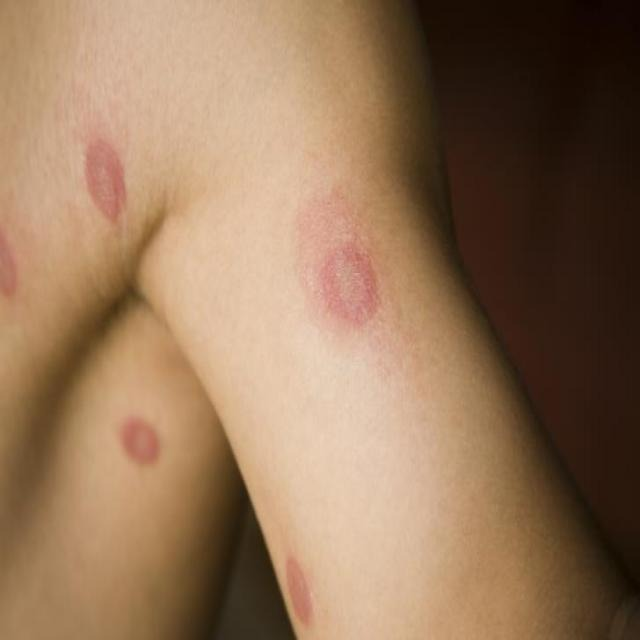Ringworm: (310, 217, 383, 337), (72, 122, 137, 233), (270, 548, 327, 633), (113, 408, 167, 485)
